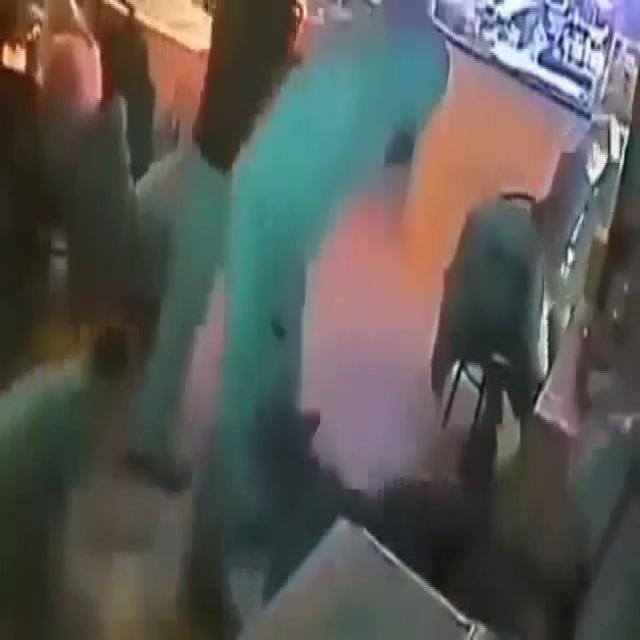fight: (198, 0, 506, 602)
